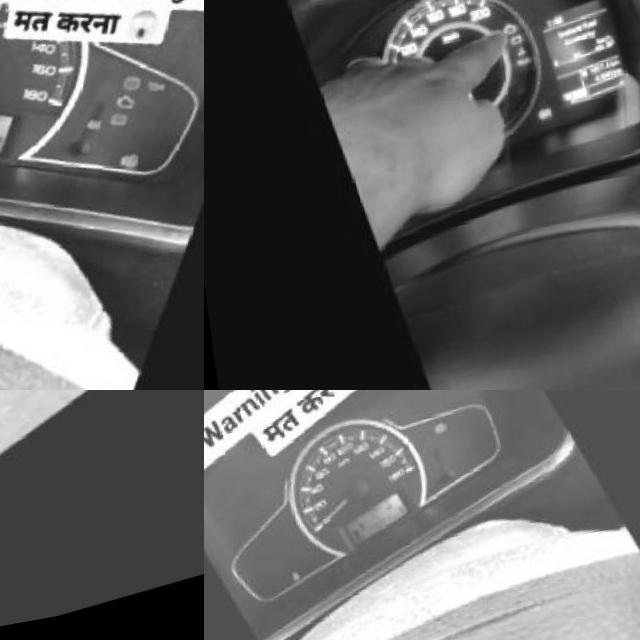High Engine Coolant Temperature: (506, 64, 520, 77)
